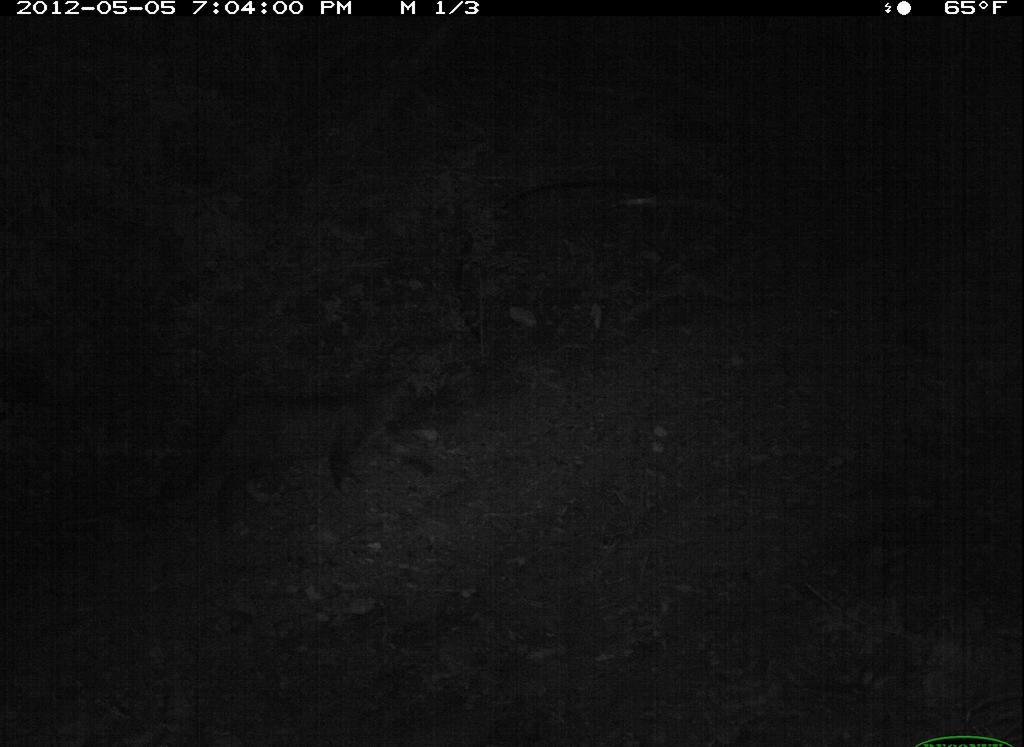cat: (153, 351, 446, 541)
